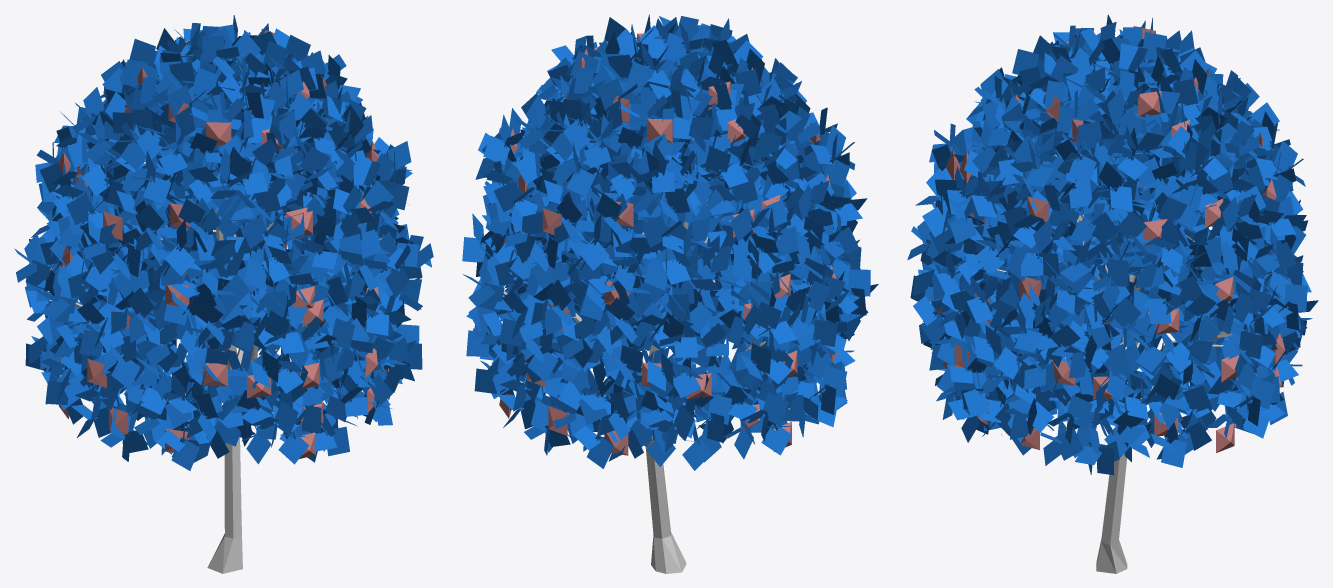
Rendered from SM_Orange_tree.fbx.
3 views of the same model, side by side, from view 1: azimuth 30°, elevation 25°; view 2: azimuth 150°, elevation 25°; view 3: azimuth 270°, elevation 25° (orthographic).
Parts seen in each view (by area): view 1: orange; view 2: orange; view 3: orange.
Boxes of the visible parts, x1,y1,x2,y2 form: orange: [14, 15, 433, 573]; orange: [462, 14, 878, 573]; orange: [907, 14, 1318, 573].
Bounding box in the file's own units: 326 × 461 × 320.
